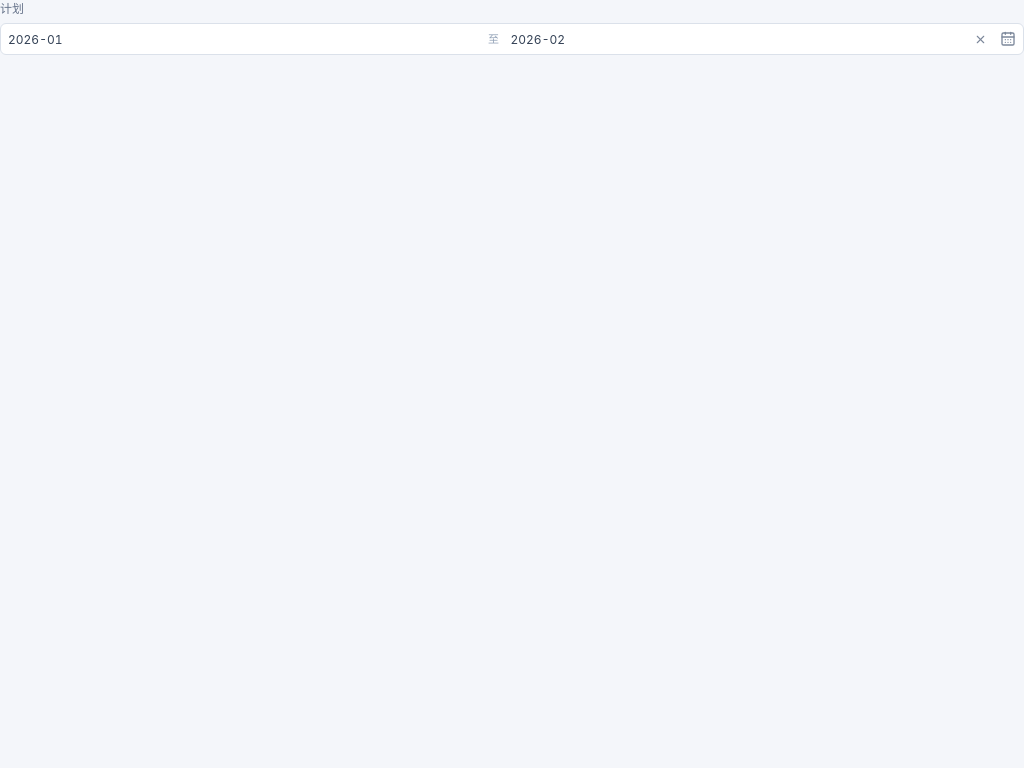
it: custom temporal popover interactions › keeps month range drafts private, cancels partial selection and commits the sorted pair once
Click the button named "选择计划" at (1008,39), box [994, 25, 1022, 53]
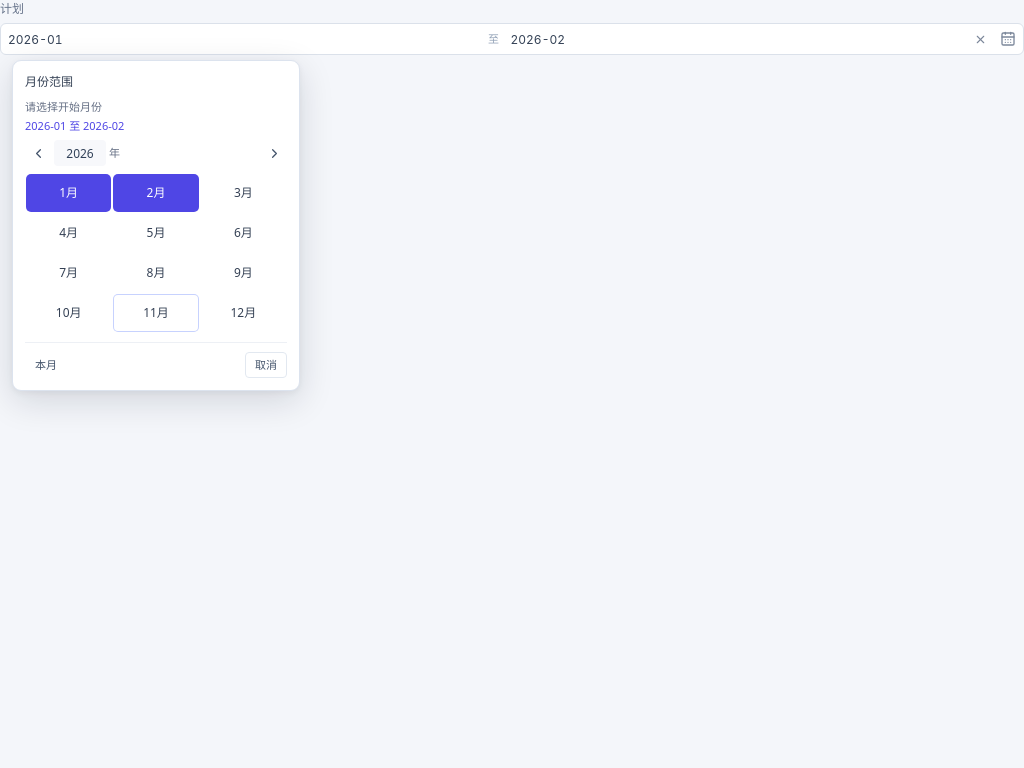
Click the button named "2026-11" at (156,313), box [113, 294, 199, 332]
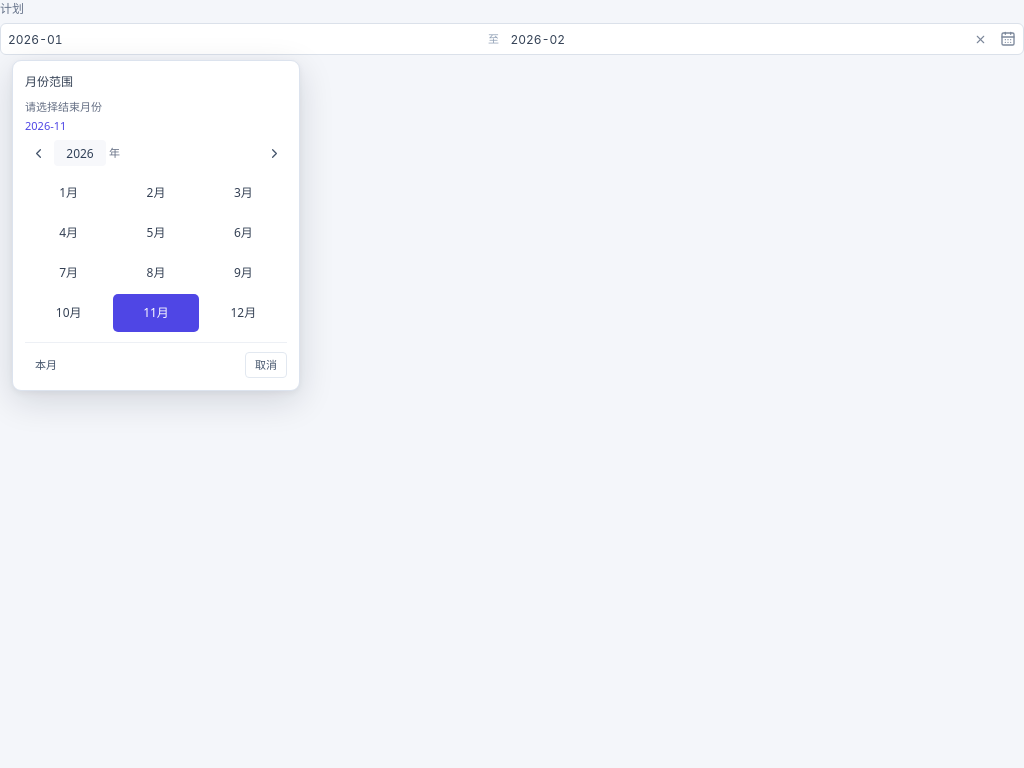
Press Escape in the dialog named "计划选择面板", box [12, 60, 300, 391]
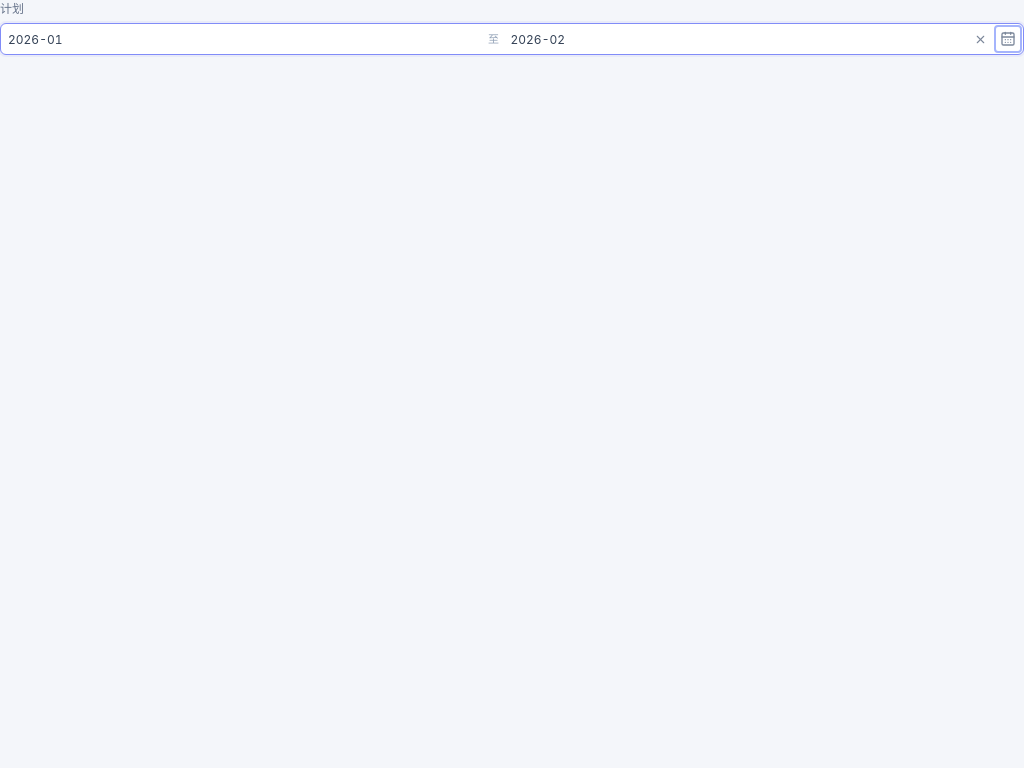
Now the dialog is gone
Click the button named "选择计划" at (1008,39), box [994, 25, 1022, 53]
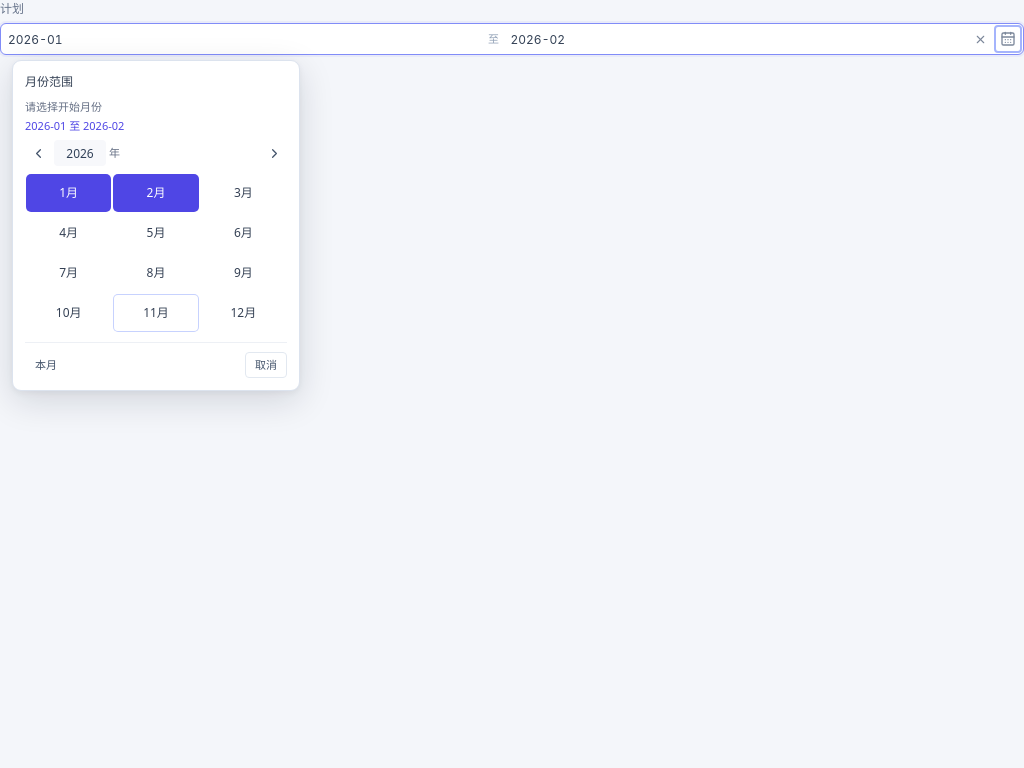
Click the button named "2026-11" at (156,313), box [113, 294, 199, 332]
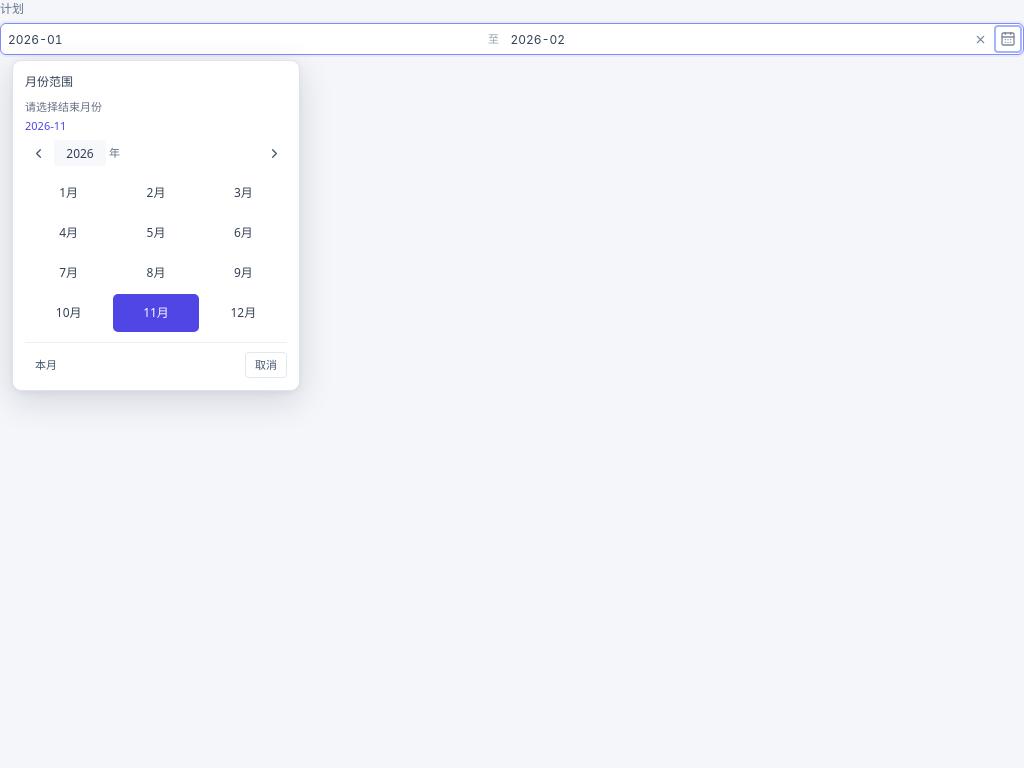
Click the button named "2026-09" at (243,273), box [201, 254, 286, 292]
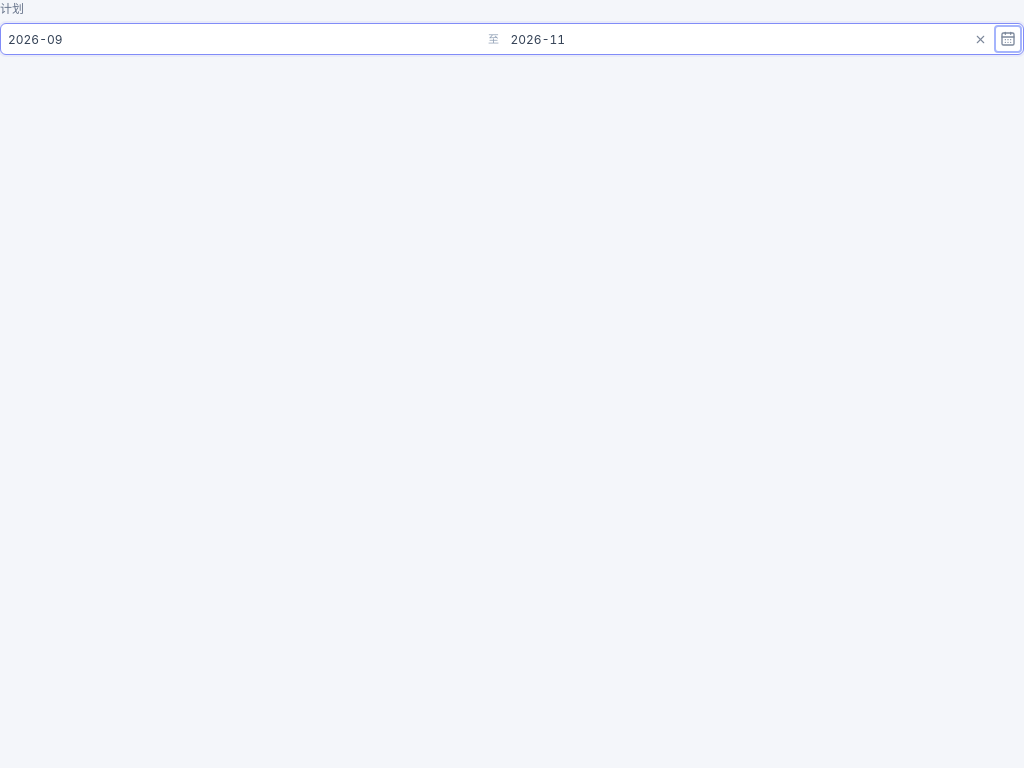
Now the dialog is gone
